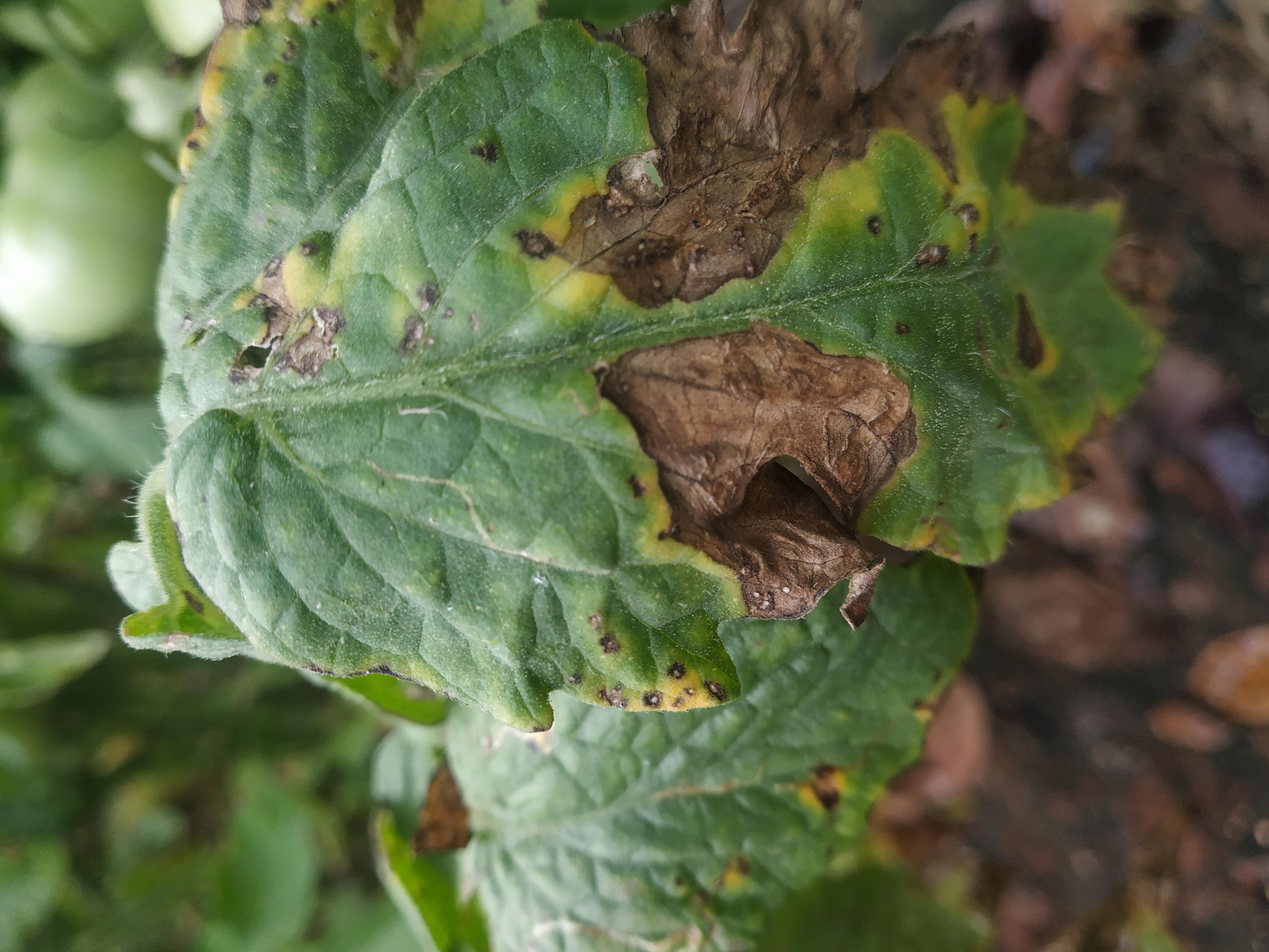Early Blight: (289, 111, 1269, 895), (0, 328, 539, 737)
